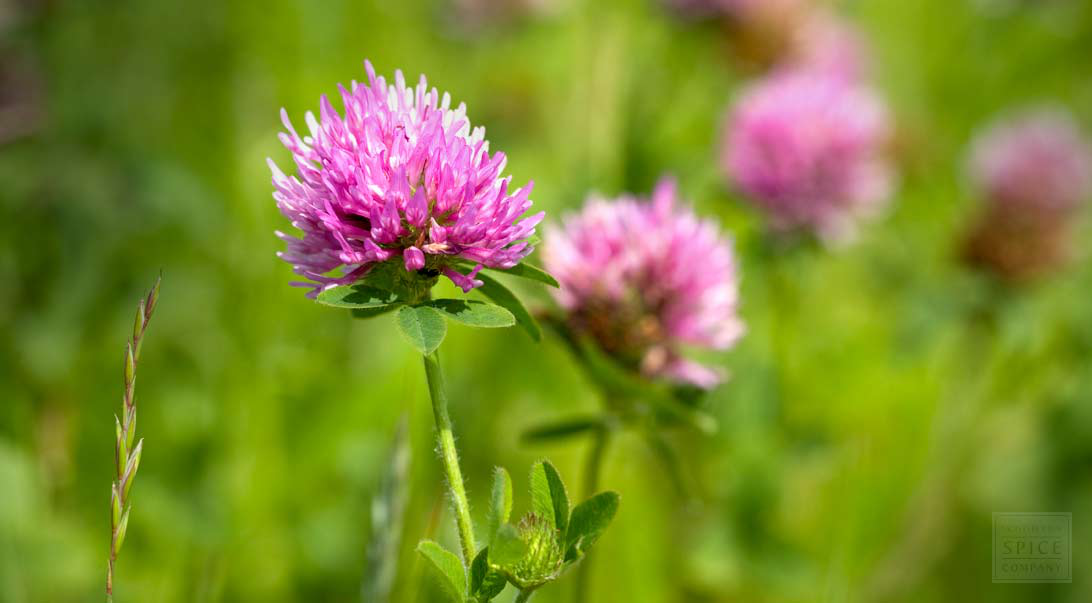clover: (258, 22, 635, 594)
